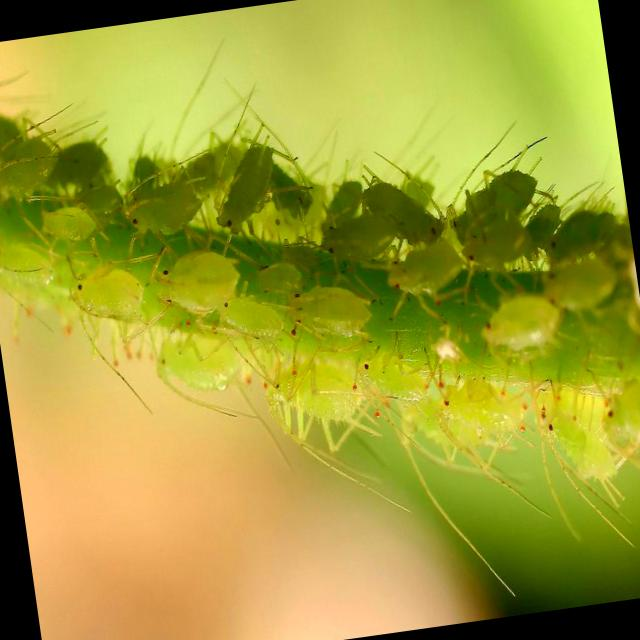Aphid: (132, 206, 273, 354), (249, 330, 371, 450), (47, 228, 153, 345), (466, 275, 582, 380), (429, 346, 531, 462), (134, 314, 254, 406), (274, 258, 381, 361), (199, 134, 286, 237), (375, 222, 465, 311), (459, 207, 545, 281), (32, 195, 101, 253)
